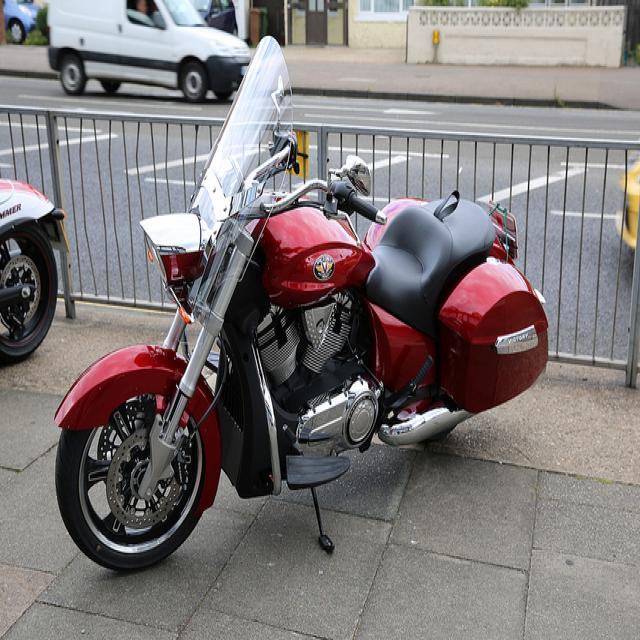motor: (54, 37, 549, 577), (0, 177, 71, 367)
